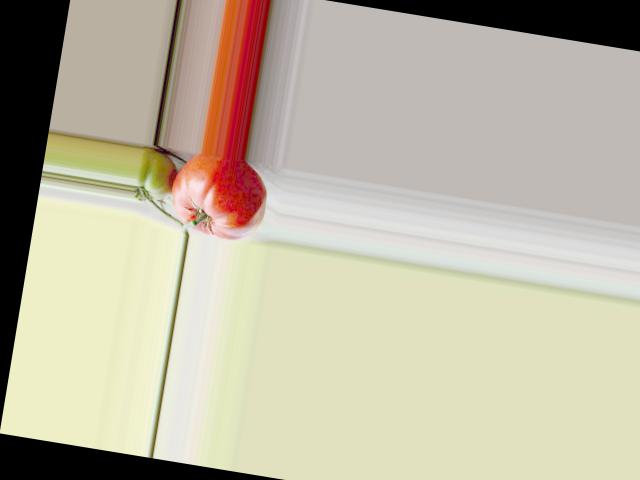tomato: (166, 148, 273, 245)
